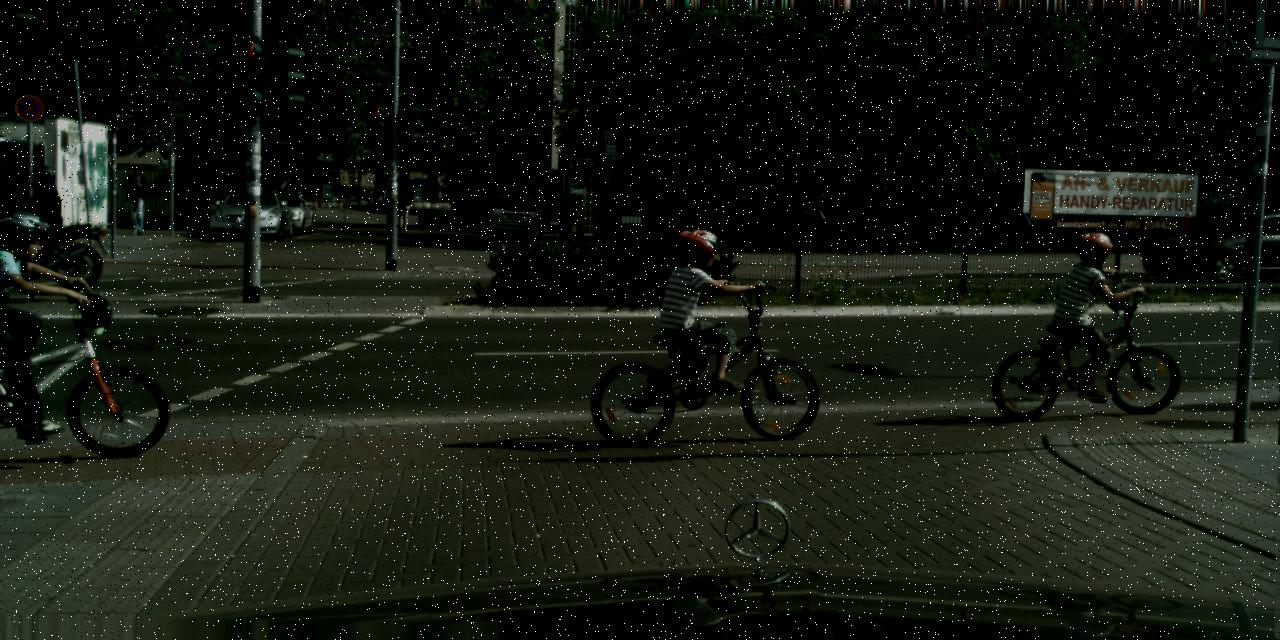ped: (0, 210, 65, 421), (663, 228, 730, 393), (1054, 232, 1112, 375), (17, 165, 60, 271), (123, 166, 151, 234), (394, 184, 414, 230)
